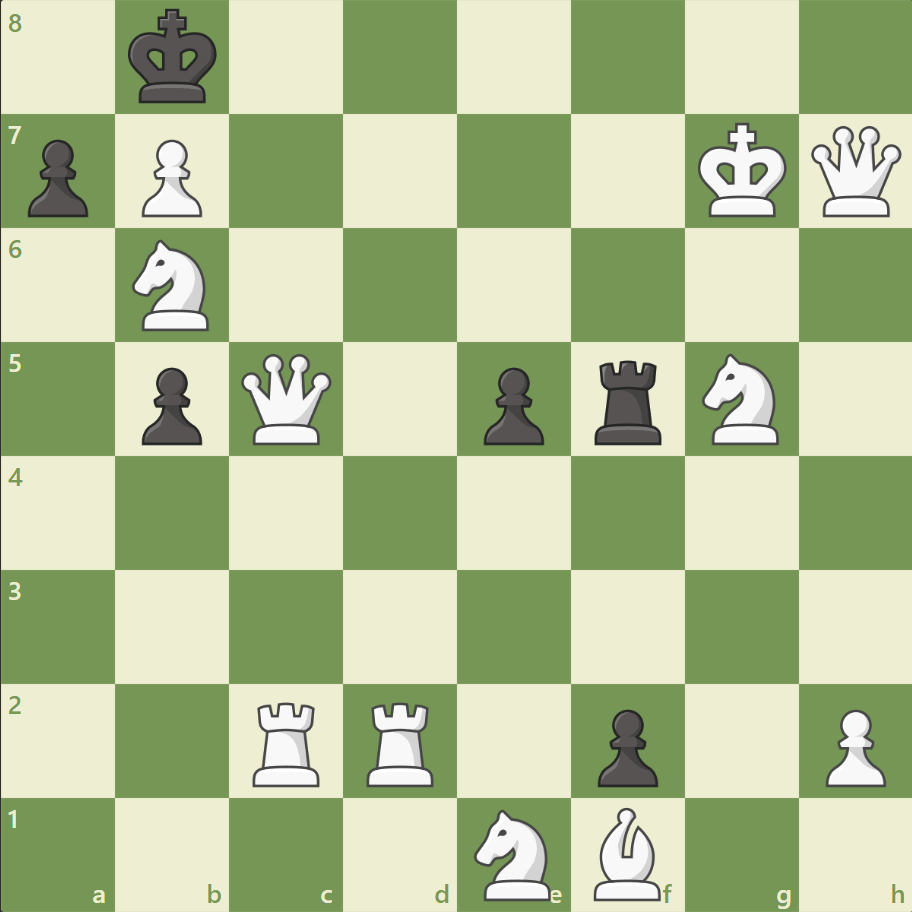B: (585, 801, 669, 904)
K: (692, 117, 792, 225)
N: (124, 234, 222, 337), (692, 348, 789, 450), (465, 802, 562, 904)
P: (133, 132, 208, 223), (815, 700, 889, 791)
Q: (805, 122, 904, 222), (237, 349, 336, 449)
R: (246, 693, 329, 790), (360, 693, 442, 790)
k: (124, 4, 224, 112)
p: (20, 132, 95, 223), (133, 359, 208, 450), (474, 359, 549, 450), (588, 700, 662, 791)
r: (587, 352, 670, 449)
